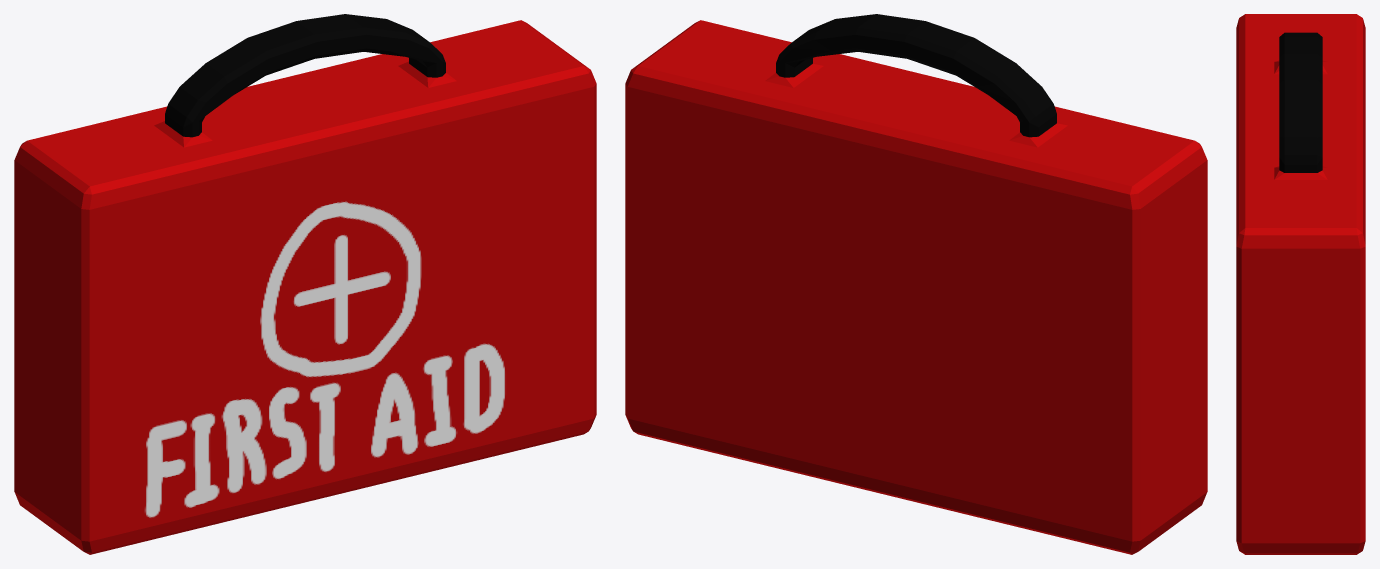
Rendered from AID.glb.
The picture shows the model from 3 angles, left to right: view 1: azimuth 30°, elevation 25°; view 2: azimuth 150°, elevation 25°; view 3: azimuth 270°, elevation 25°; orthographic projection. The views are drawn at different scales.
Parts seen in each view (by area): view 1: Cube; view 2: Cube; view 3: Cube.
Part boxes in pixels (bbox=[...]): Cube: bbox=[14, 14, 596, 554]; Cube: bbox=[625, 14, 1207, 554]; Cube: bbox=[1236, 14, 1365, 554].
Bounding box in the file's own units: 4.52 × 3.72 × 1.11.
2 materials, 1 textured.
